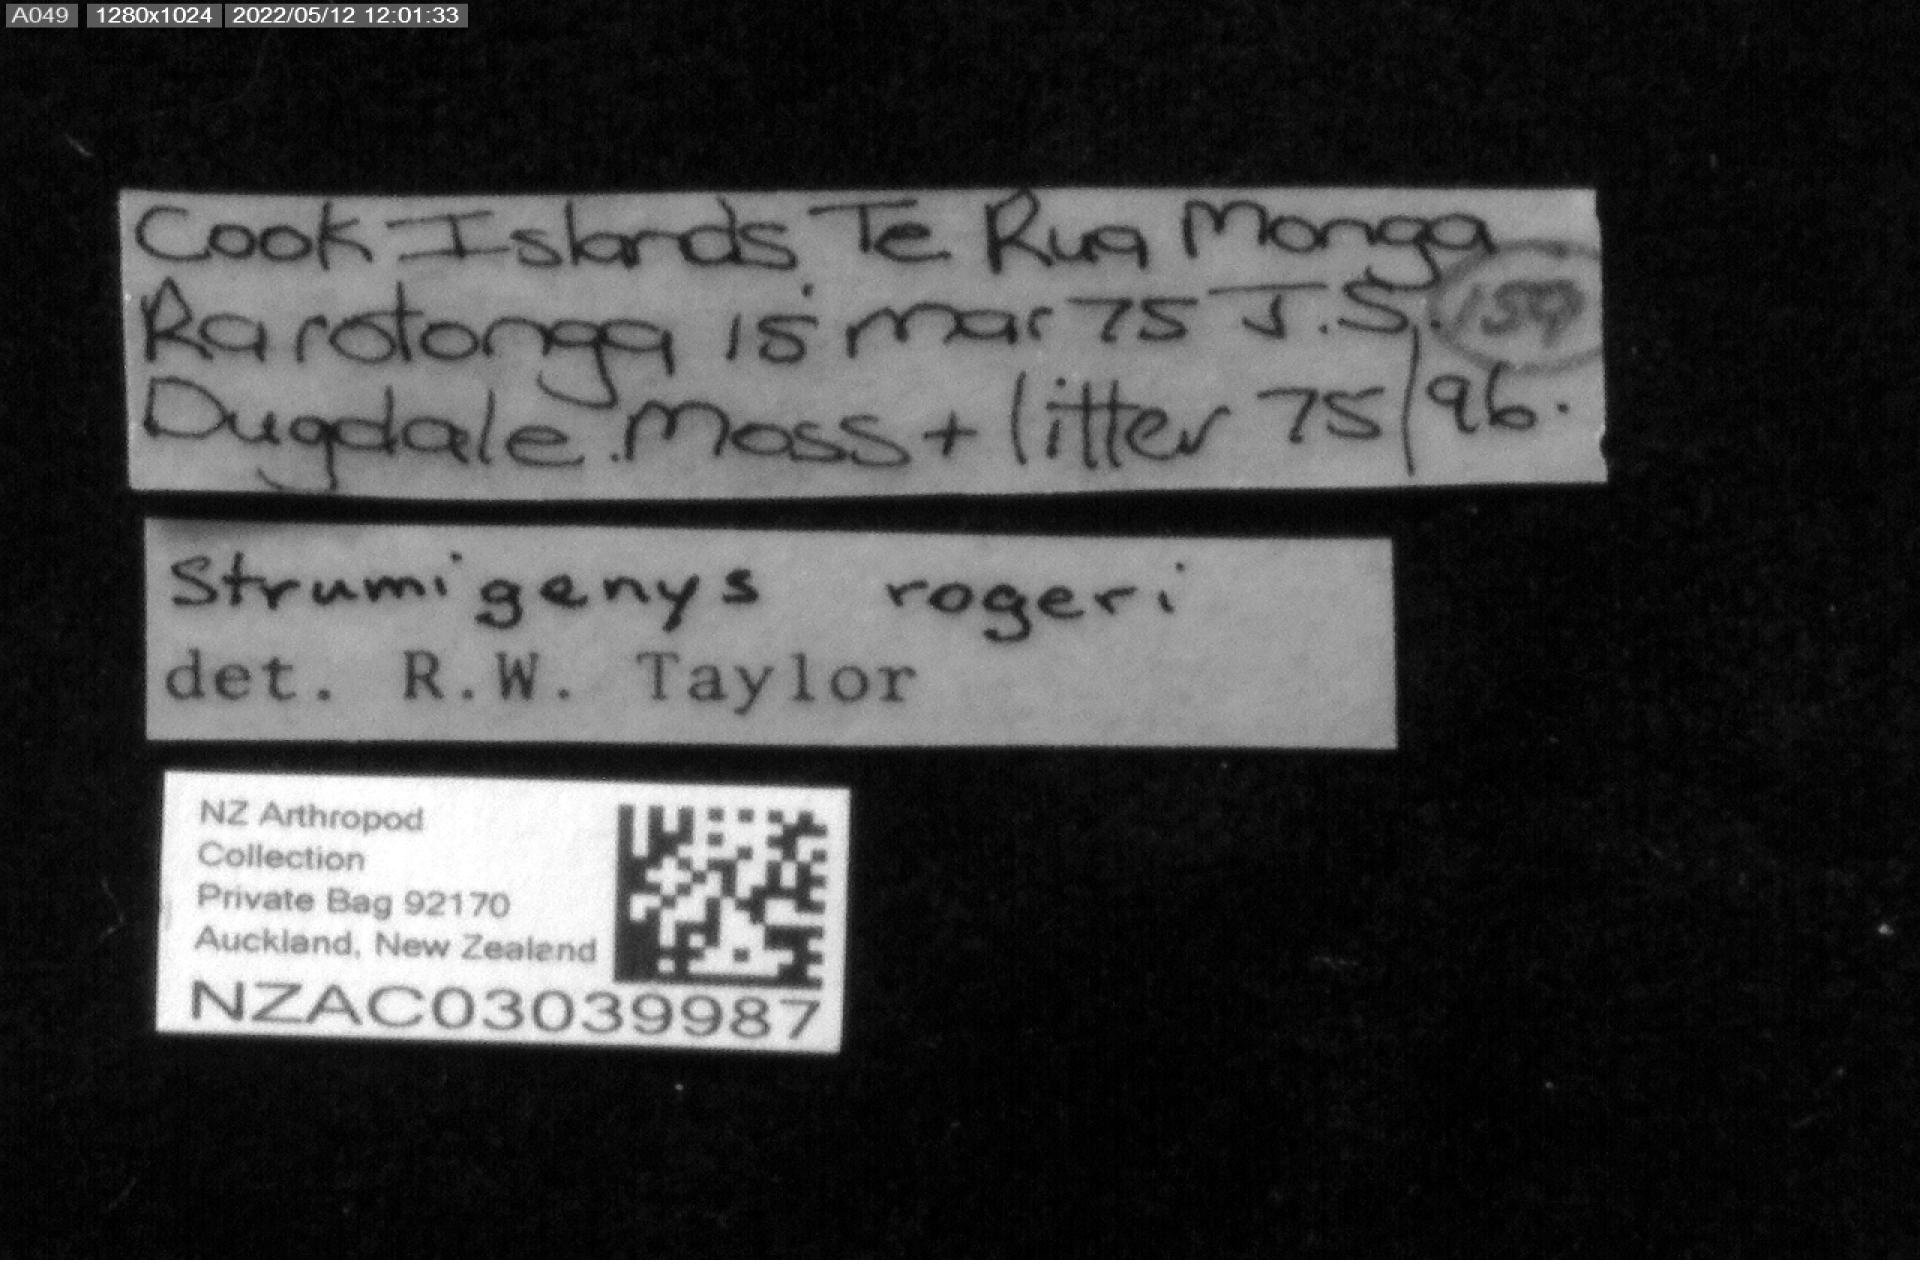hand_label: (120, 187, 1606, 500)
mixed_label: (146, 519, 1394, 750)
typed_label: (157, 771, 847, 1053)
